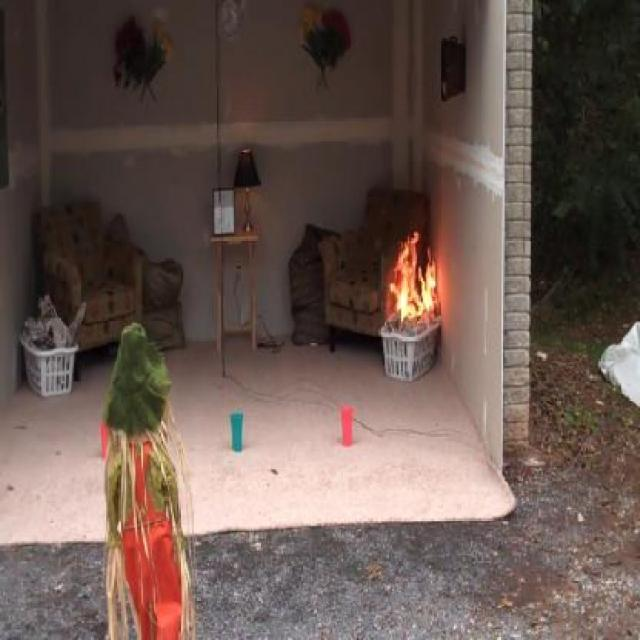fire: (375, 242, 443, 376)
